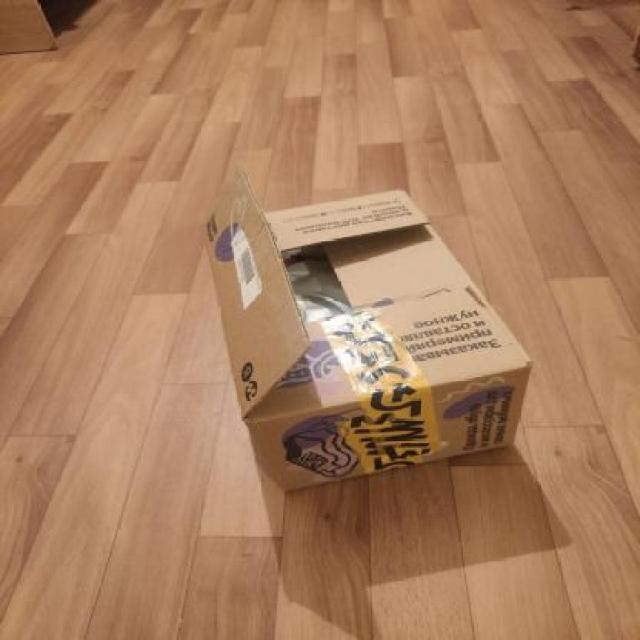box: (207, 178, 525, 482)
